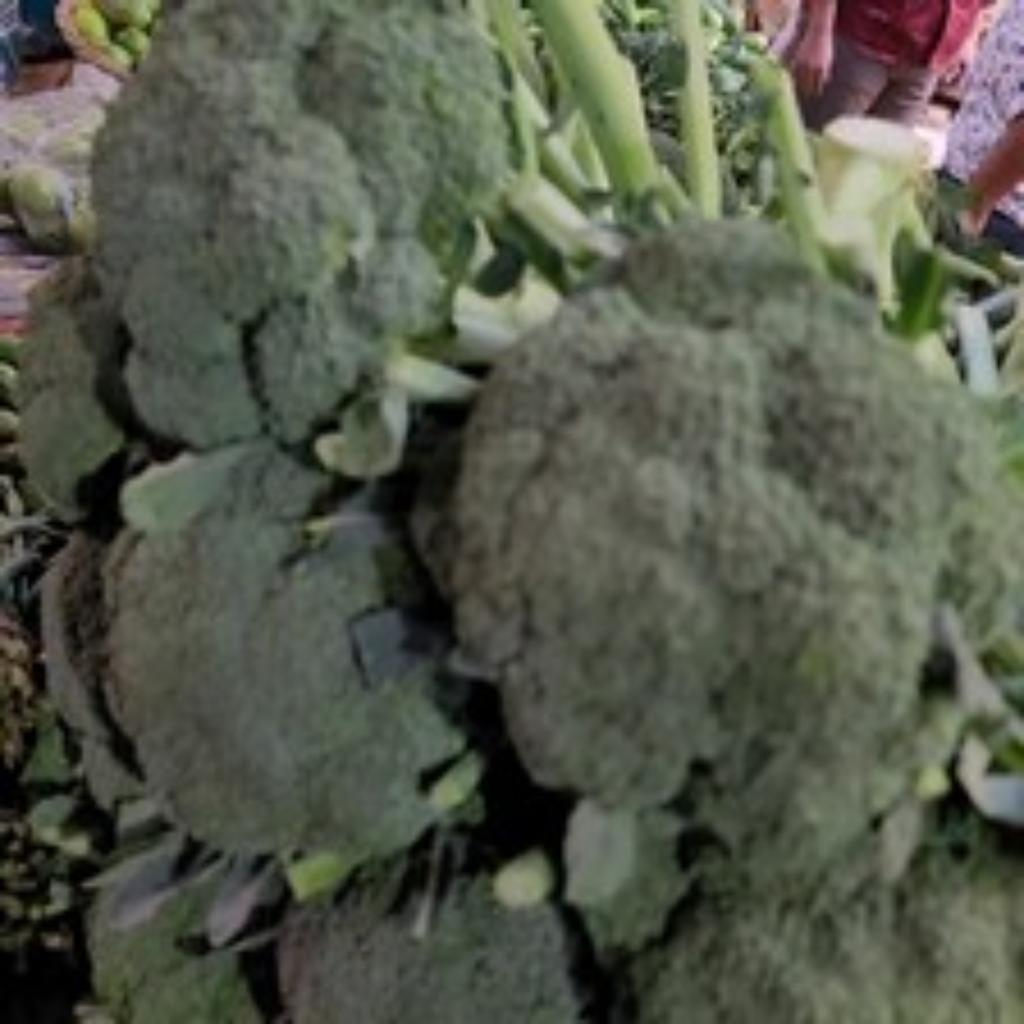Broccoli: (412, 222, 1024, 1024), (416, 224, 1024, 1024), (94, 0, 508, 447), (100, 440, 464, 873), (102, 440, 464, 861), (278, 832, 584, 1024), (280, 832, 584, 1024)
